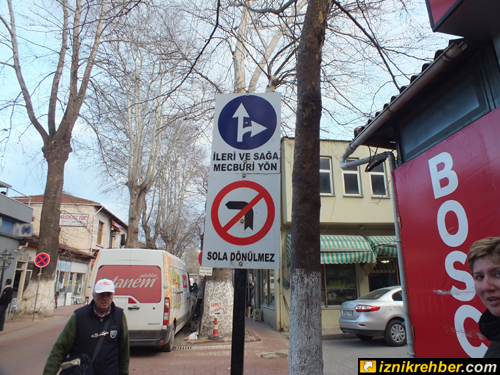ileri_veya_saga: (216, 93, 286, 154)
minibus: (76, 244, 198, 346)
otomobil: (335, 273, 409, 354)
yaya: (39, 276, 137, 361), (446, 240, 499, 374)
